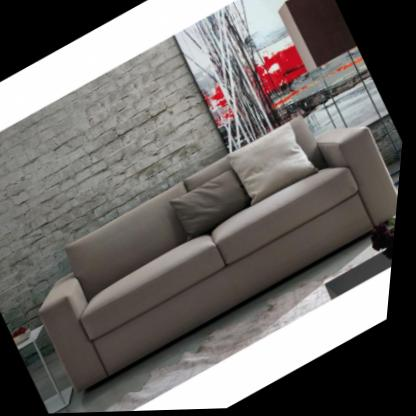Sofa: (13, 85, 409, 397)
